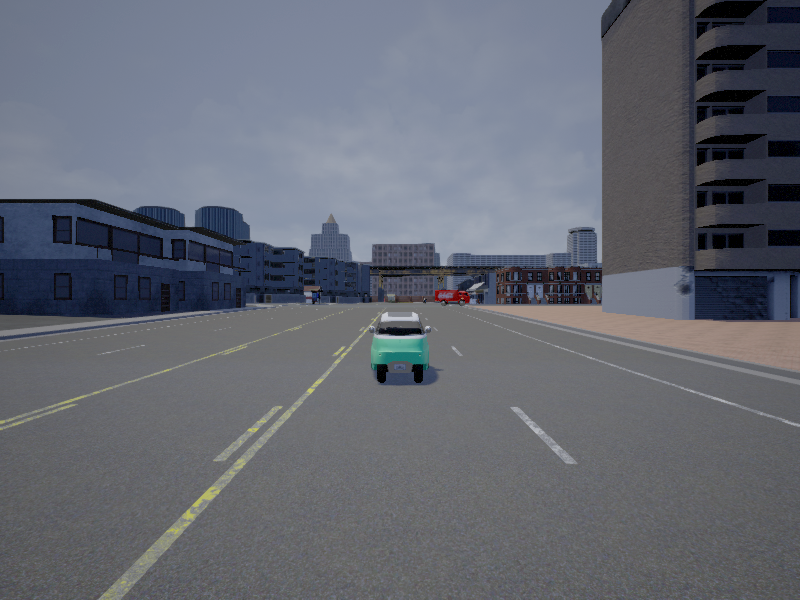Benign: (366, 311, 432, 384), (436, 290, 471, 306)
